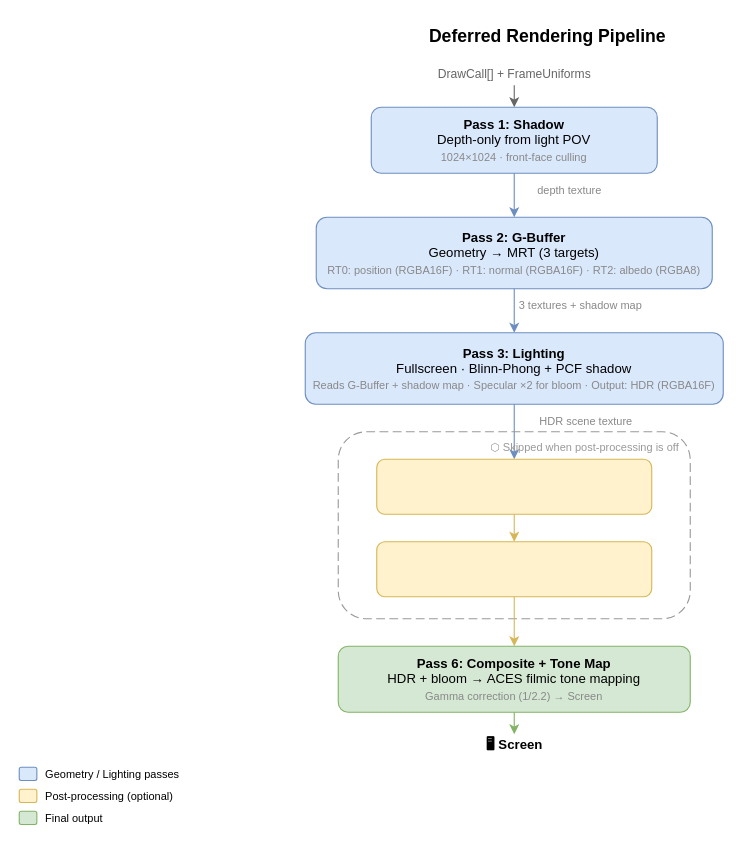
Image size: 743x847. Some labels were removed from this diagram. Each missing label, with the centre of its shape:
"Pass 4: Bloom Extract Threshold > 1.0 · Half resolution" goes at (514,486).
"Pass 5: Gaussian Blur Separable H+V · 5 iterations · Ping-pong FBOs" goes at (514,569).
